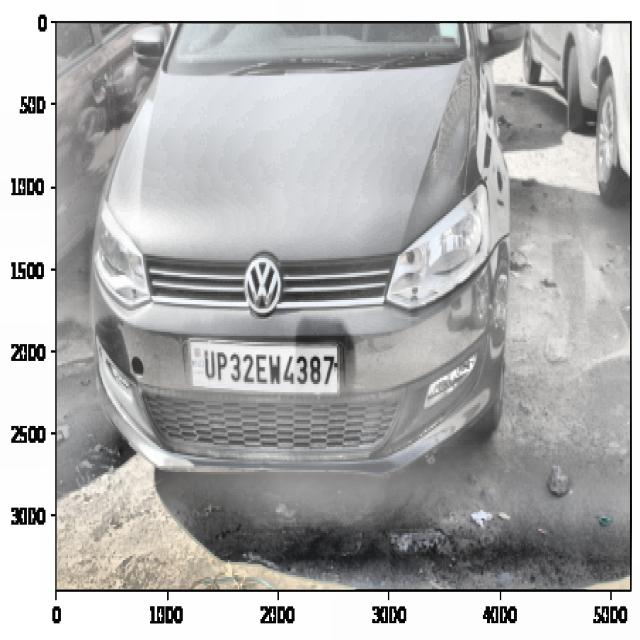license_plate: (197, 342, 343, 396)
